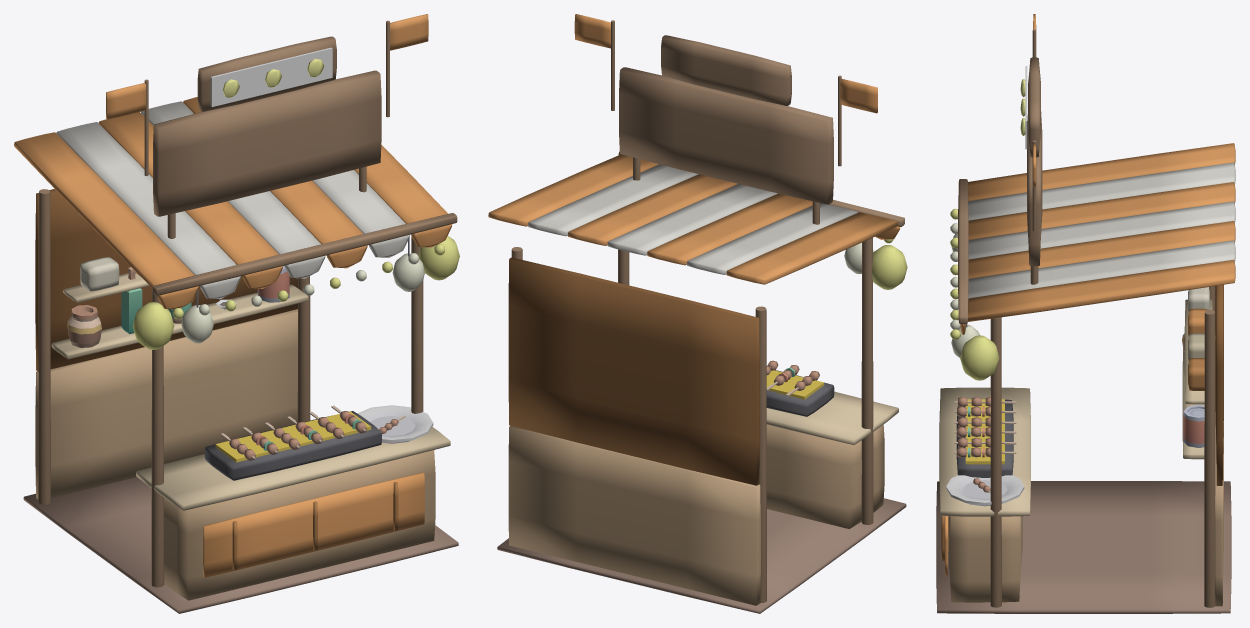
File: stall_skewers.glb
3 views of the same model, side by side, from view 1: azimuth 30°, elevation 25°; view 2: azimuth 150°, elevation 25°; view 3: azimuth 270°, elevation 25° (orthographic). The views are drawn at different scales.
Parts seen in each view (by area): view 1: body, level3, level2; view 2: body, level3, level2; view 3: body, level2, level3.
Boxes of the visible parts, <box> form: body: <box>14,70,458,613</box>; level3: <box>106,14,428,175</box>; level2: <box>63,236,459,349</box>; body: <box>488,67,906,613</box>; level3: <box>574,14,877,166</box>; level2: <box>871,239,907,289</box>; body: <box>936,112,1235,613</box>; level2: <box>950,208,1212,404</box>; level3: <box>1020,14,1040,231</box>.
Bounding box in the file's own units: 3.2 × 4.68 × 2.73.
